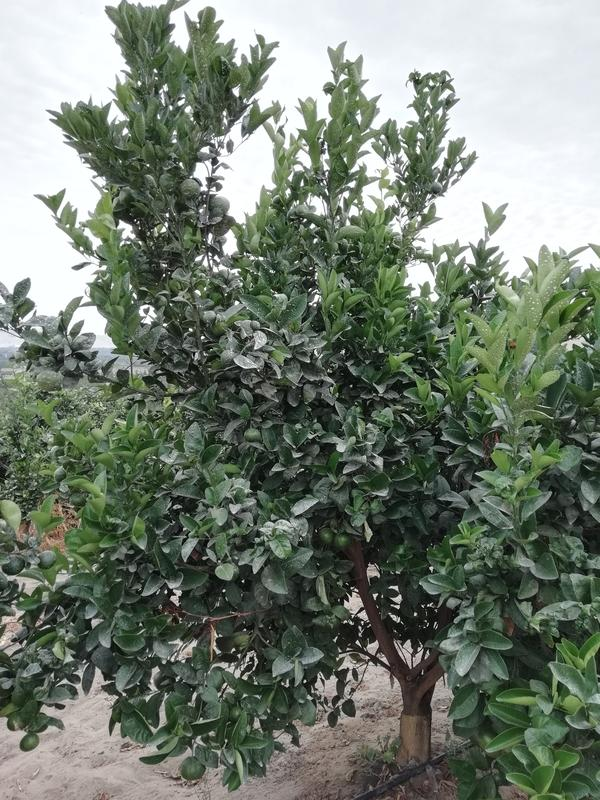mandarina verde: (179, 756, 206, 781), (36, 371, 63, 392), (2, 555, 26, 575), (180, 179, 201, 199), (18, 733, 40, 752), (37, 550, 57, 570), (209, 194, 230, 212), (334, 532, 351, 552), (317, 528, 334, 546), (244, 428, 261, 442), (69, 493, 86, 507), (431, 182, 443, 194), (250, 320, 262, 331)
